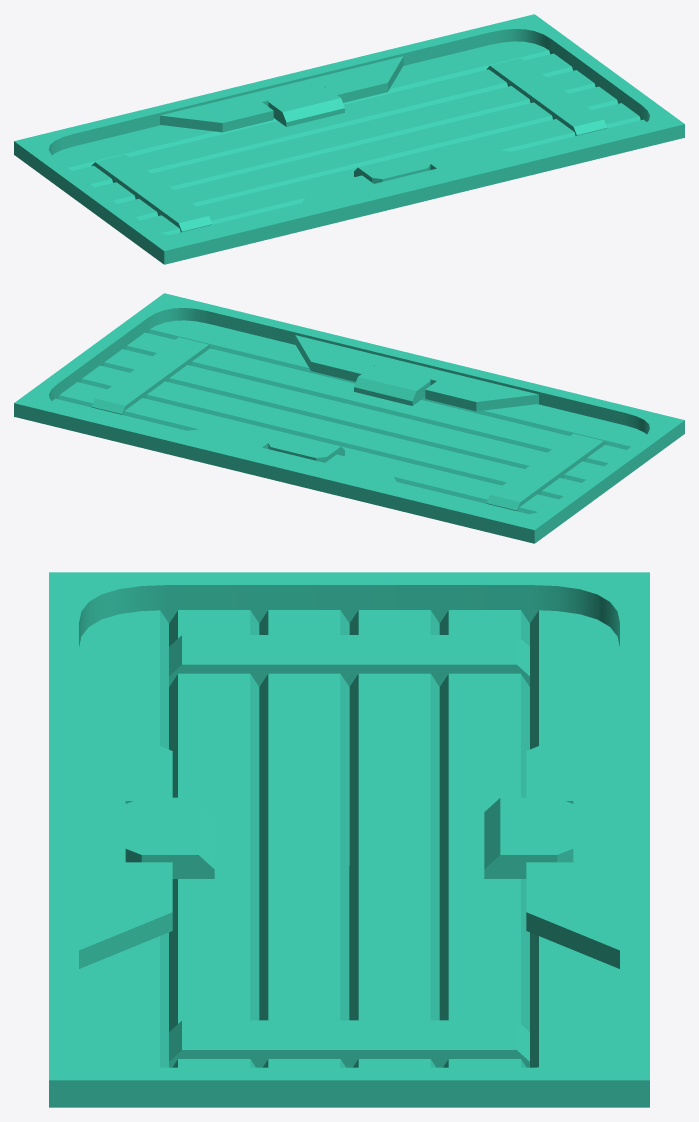
Rendered from Floor_A_4x2m.FBX.
3 renders of one model, top to bottom at view 1: azimuth 30°, elevation 25°; view 2: azimuth 150°, elevation 25°; view 3: azimuth 270°, elevation 25°, orthographic. The views are drawn at different scales.
Visible parts, largest first — view 1: Floor_A_4x2m; view 2: Floor_A_4x2m; view 3: Floor_A_4x2m.
Boxes of the visible parts, x1,y1,x2,y2 form: Floor_A_4x2m: (14,14,684,264); Floor_A_4x2m: (14,293,684,543); Floor_A_4x2m: (49,572,649,1107).
Bounding box in the file's own units: 400 × 16.24 × 200.
